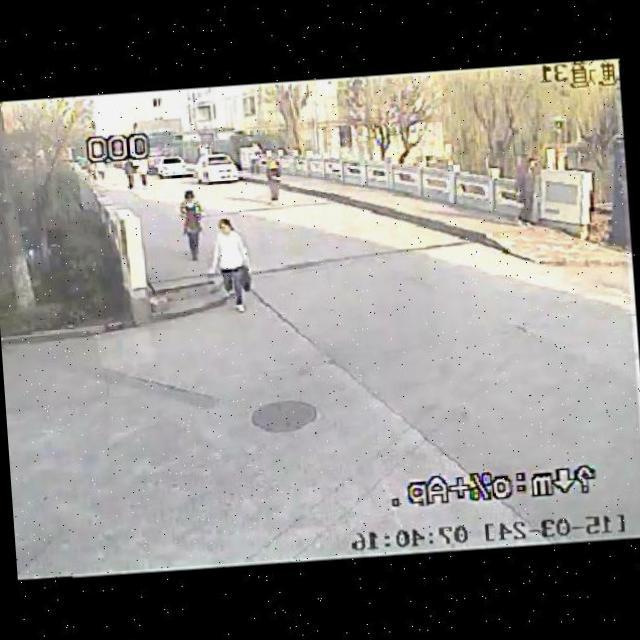person: (200, 212, 257, 320), (166, 180, 209, 262), (256, 143, 296, 205), (120, 154, 146, 192), (130, 149, 150, 195)
